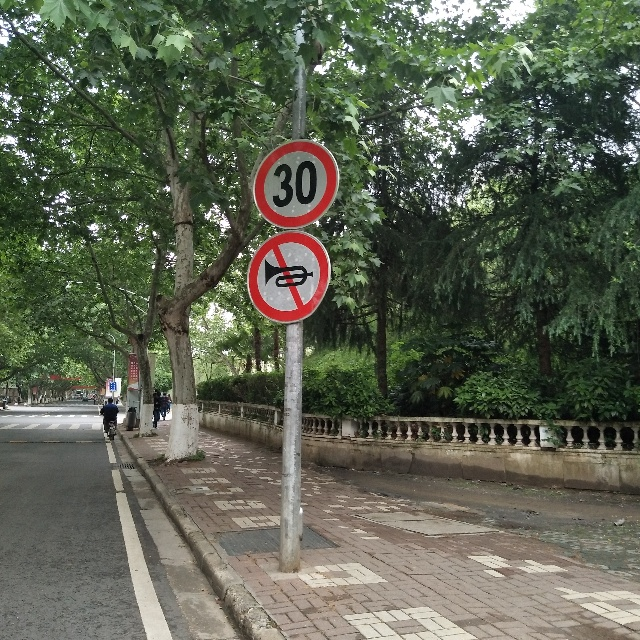nohonk: (251, 230, 328, 311)
